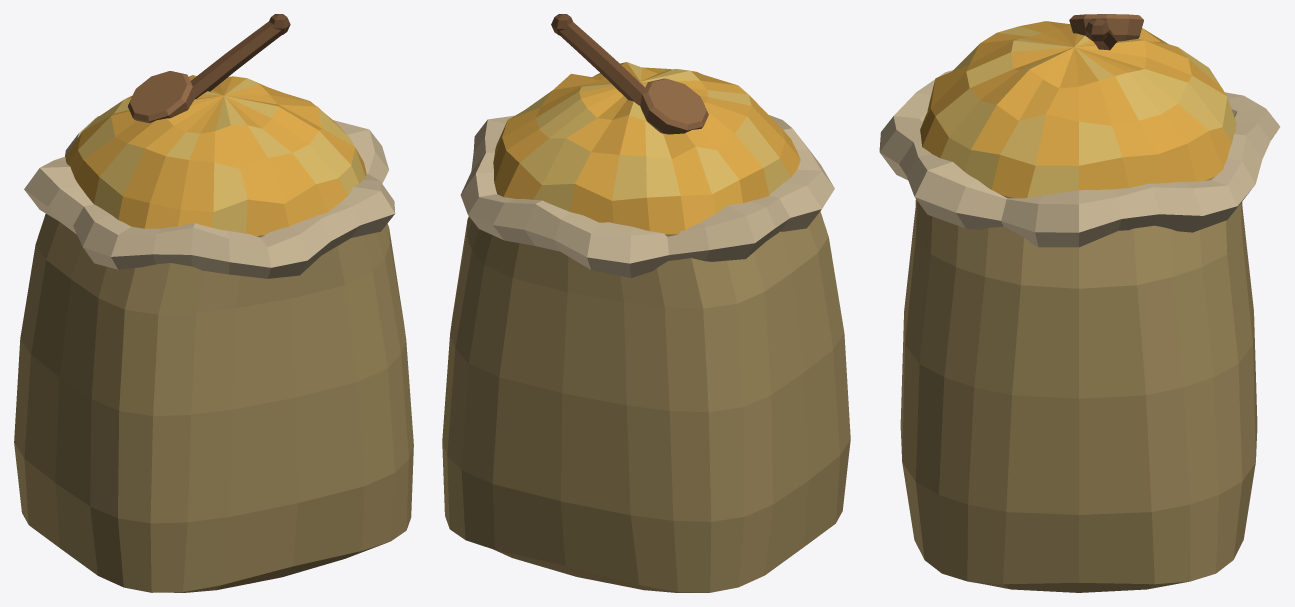
File: mdvl_food_grain_sack_01.glb
3 renders of one model, left to right at view 1: azimuth 30°, elevation 25°; view 2: azimuth 150°, elevation 25°; view 3: azimuth 270°, elevation 25°, orthographic. The views are drawn at different scales.
Visible parts, largest first — view 1: mdvl_food_grain_sack_01; view 2: mdvl_food_grain_sack_01; view 3: mdvl_food_grain_sack_01.
Boxes of the visible parts, x1,y1,x2,y2 form: mdvl_food_grain_sack_01: (14, 14, 413, 592); mdvl_food_grain_sack_01: (442, 14, 850, 592); mdvl_food_grain_sack_01: (879, 14, 1280, 592).
Size of the model in its own units: 0.36 by 0.517 by 0.3484.
1 material, 1 textured.
